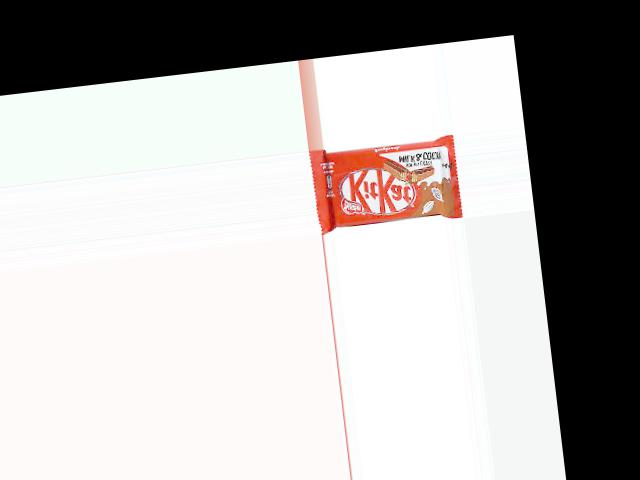chocolate: (309, 133, 464, 234)
